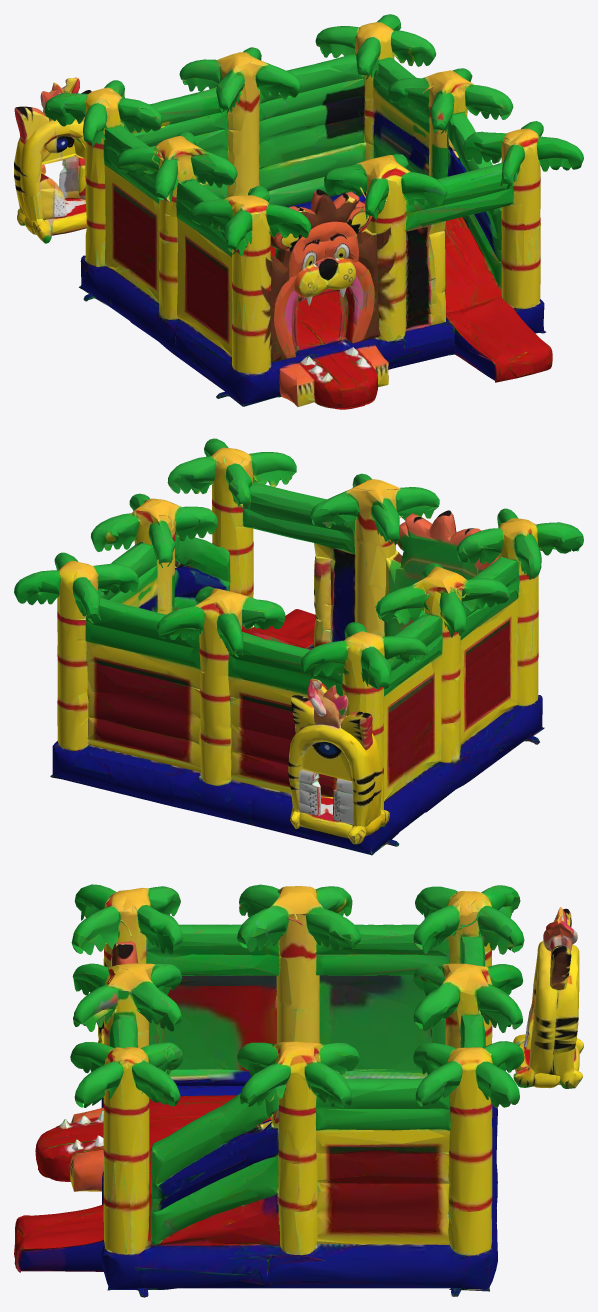
3 views of the same model, one above another, from view 1: azimuth 30°, elevation 25°; view 2: azimuth 150°, elevation 25°; view 3: azimuth 270°, elevation 25° (orthographic). The views are drawn at different scales.
Size of the model in its own units: 1.64 by 0.8827 by 1.9.
1 material, 1 textured.
